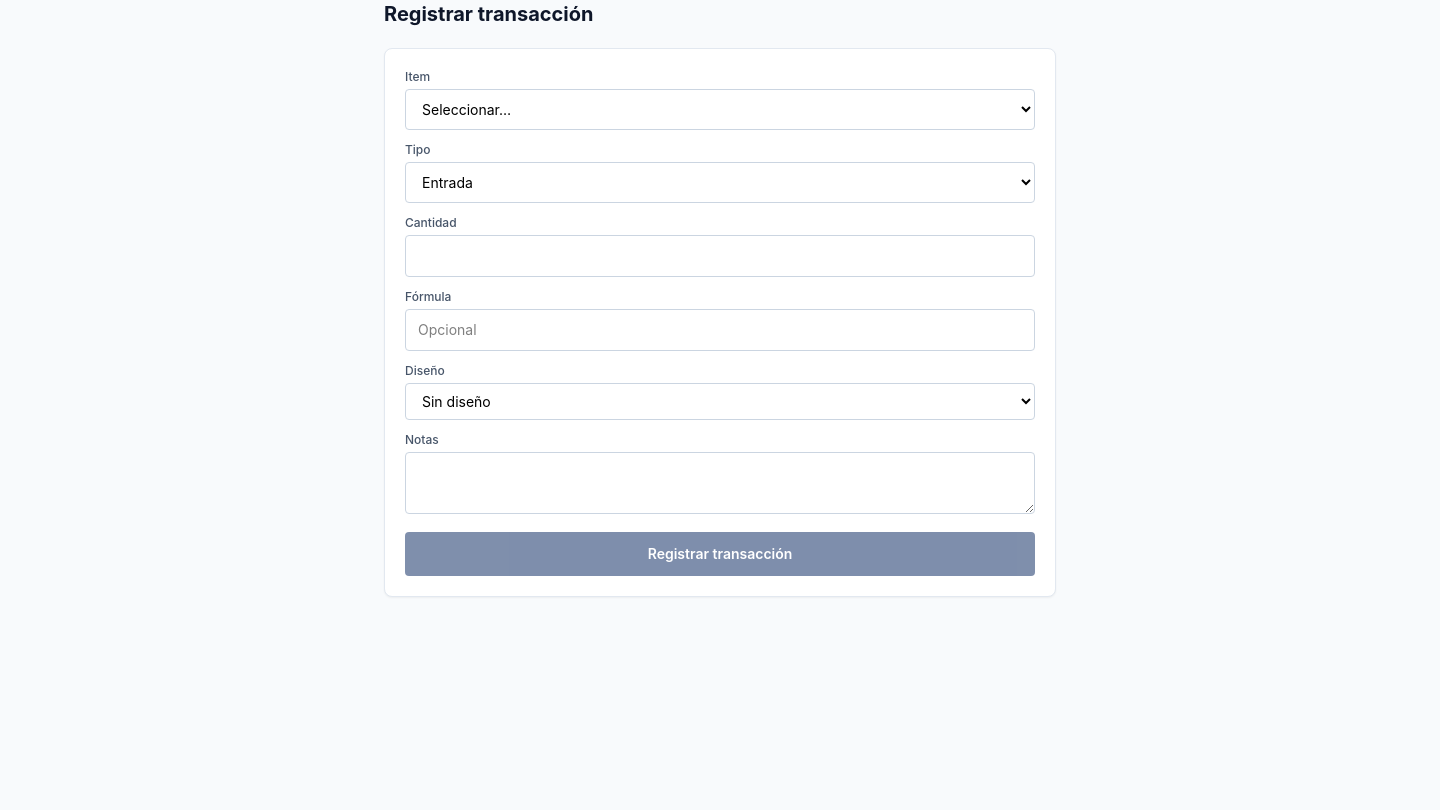
Test: InventoryTransactionPage (mobile txn form) › stages the transaction behind a confirmation dialog — no POST before confirm (P1)
Step 1. Select "Colorante Amarillo 109" in the dropdown labelled "Item" → (720, 110), box x1=405 y1=89 x2=1035 y2=130
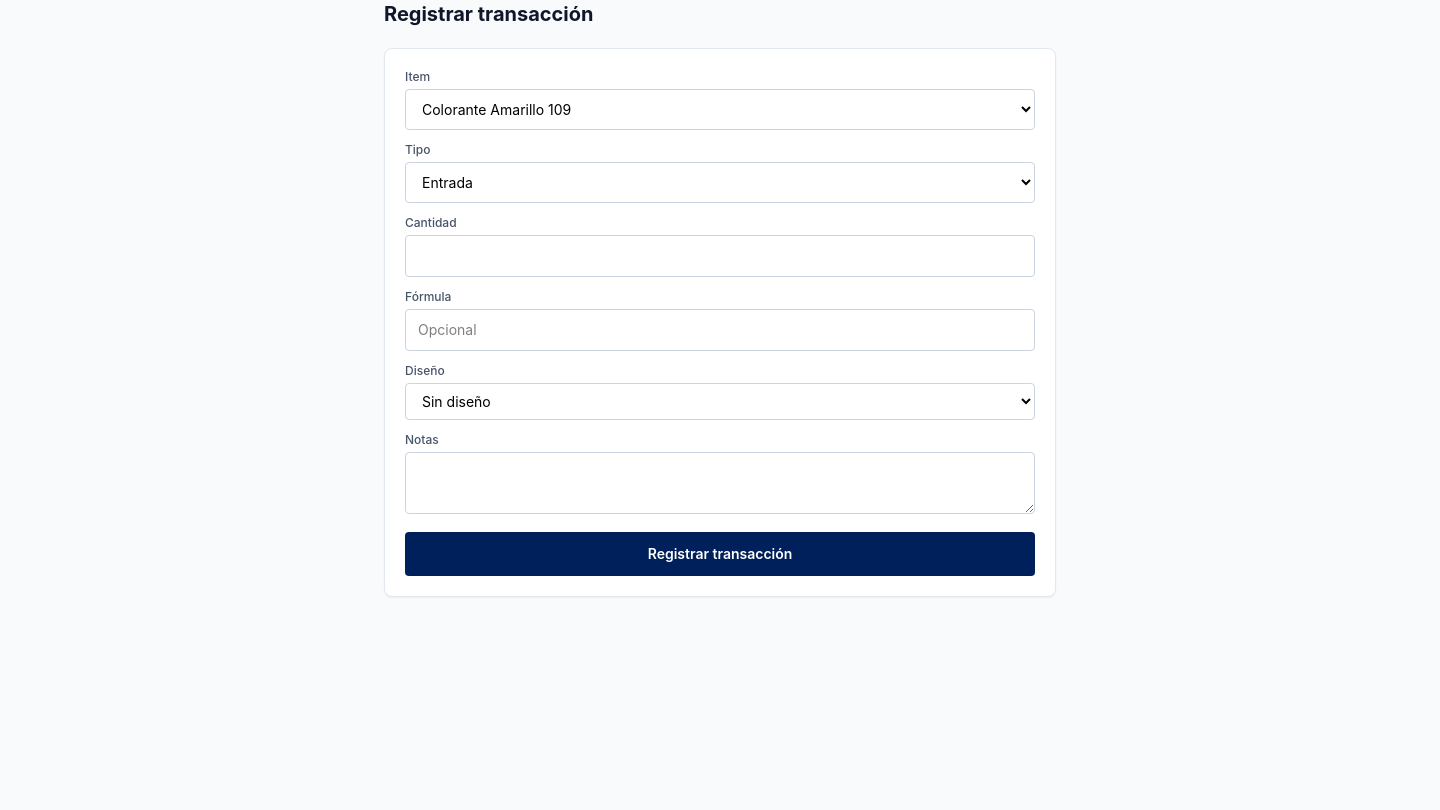
Step 2. Select "Consumo" in the dropdown labelled "Tipo" → (720, 182), box x1=405 y1=162 x2=1035 y2=203
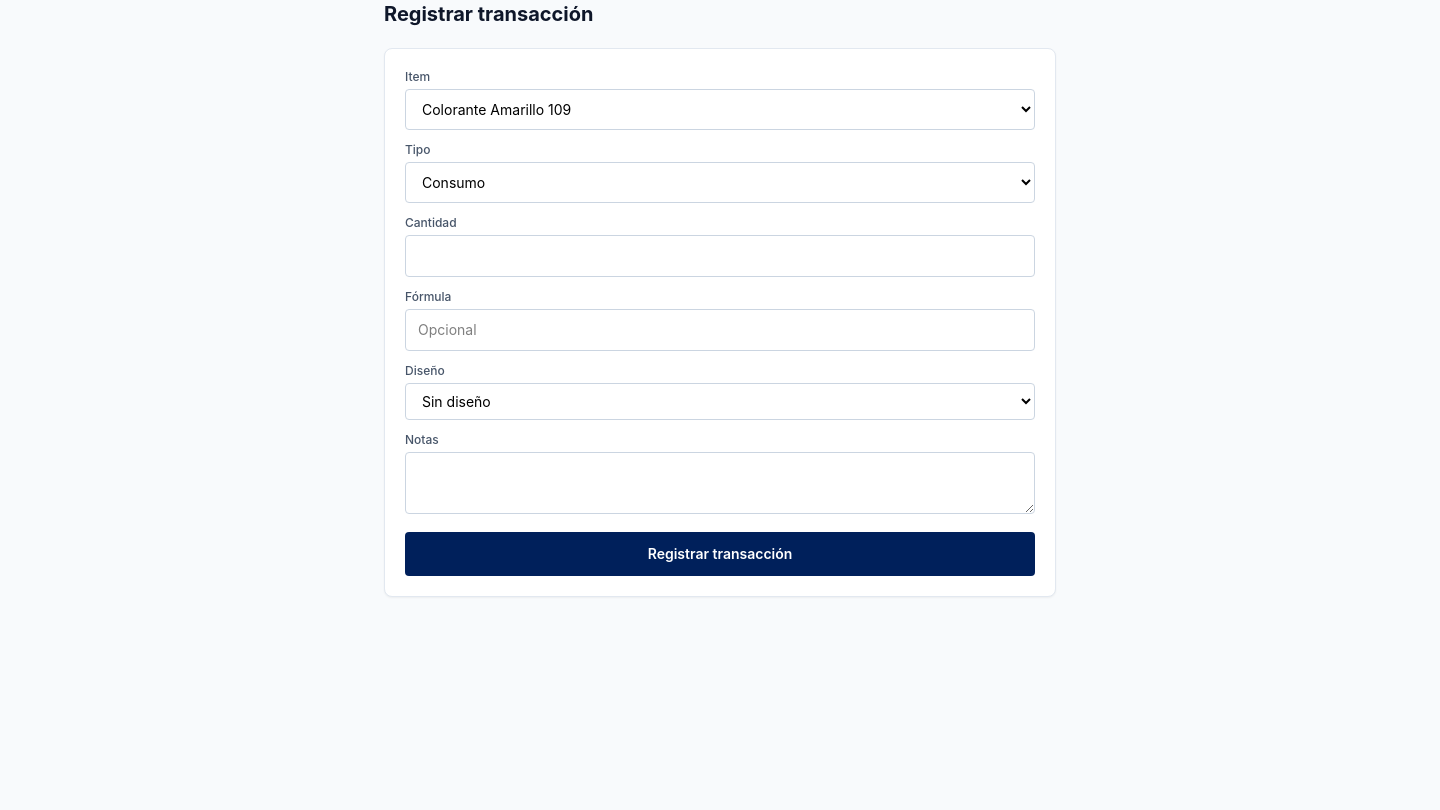
Step 3. Type "5" into the number field labelled "Cantidad" → (720, 256), box x1=405 y1=235 x2=1035 y2=277
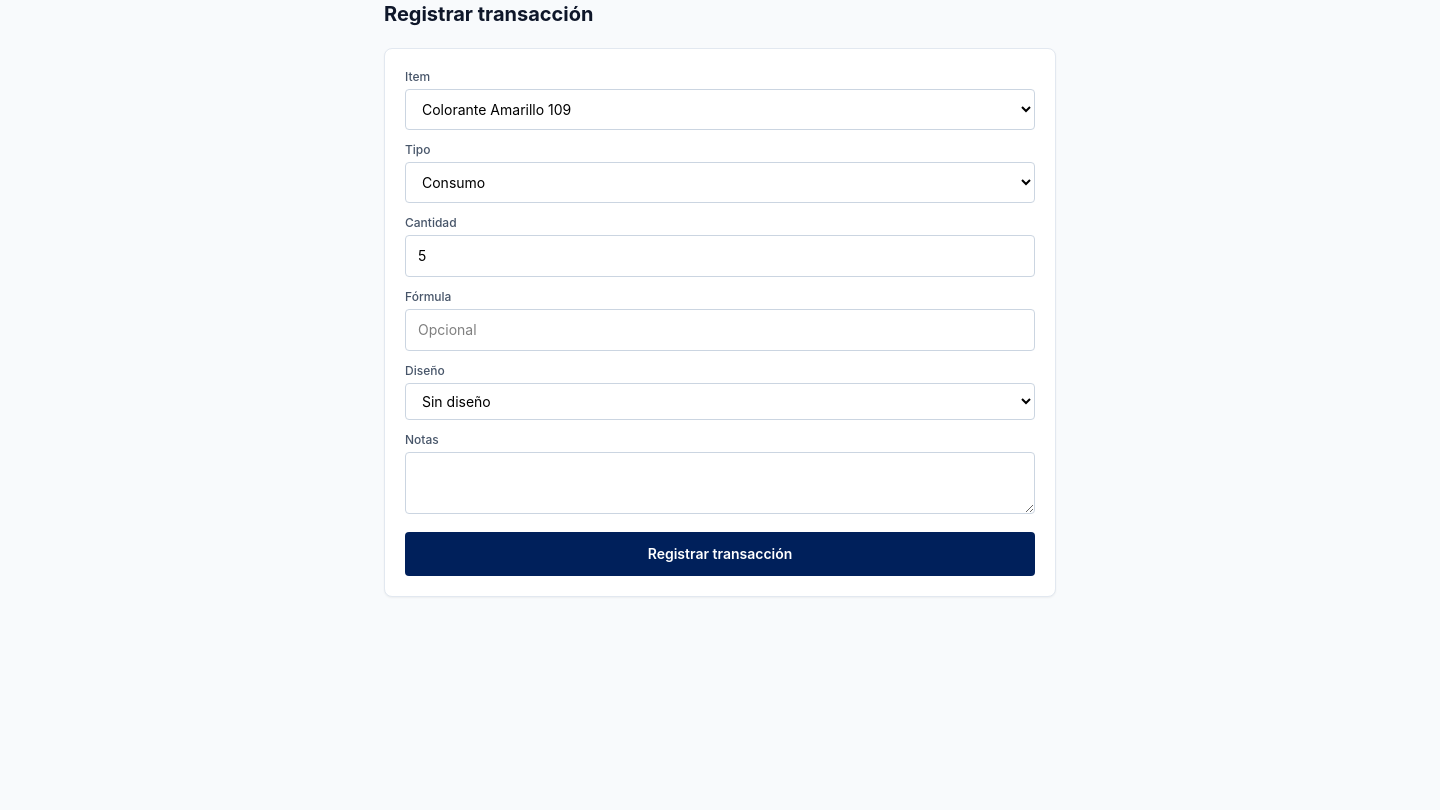
Step 4. Click the button "Registrar transacción" → (720, 554), box x1=405 y1=532 x2=1035 y2=576
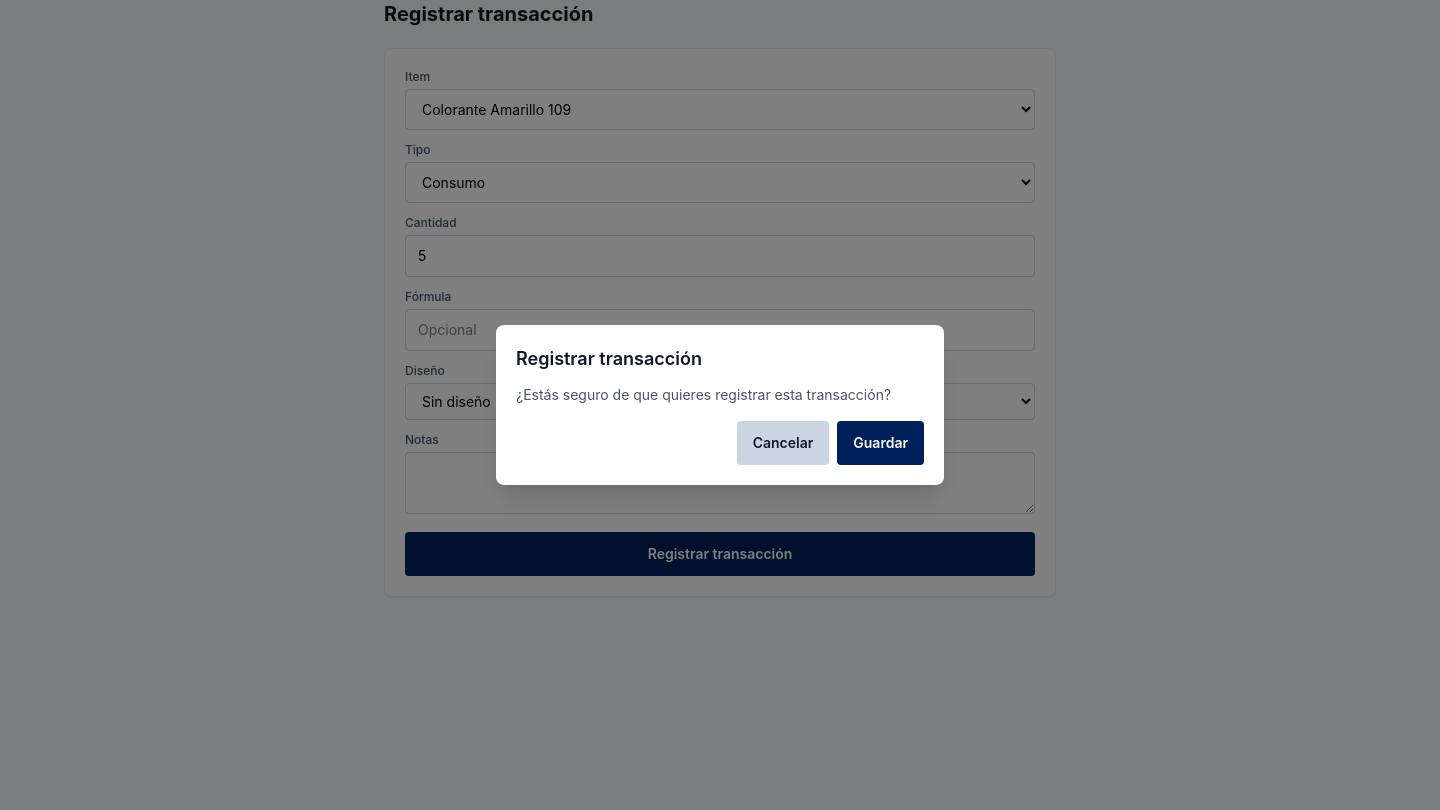
Now the dialog is shown
Now the button "Guardar" is shown, box x1=837 y1=421 x2=924 y2=465
